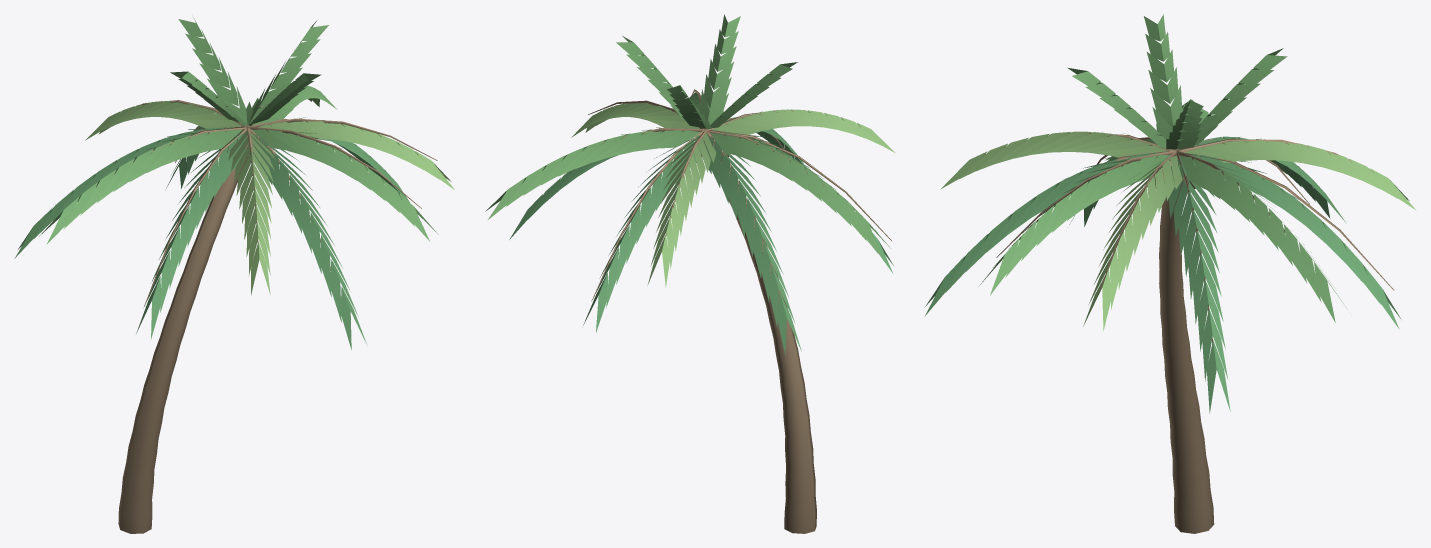
The model's file is palme_3.glb.
3 views of the same model, side by side, from view 1: azimuth 30°, elevation 25°; view 2: azimuth 150°, elevation 25°; view 3: azimuth 270°, elevation 25° (orthographic). The views are drawn at different scales.
Parts seen in each view (by area): view 1: G_palme_3; view 2: G_palme_3; view 3: G_palme_3.
Part boxes in pixels (x1,y1,x2,y2): G_palme_3: (14,17,454,533); G_palme_3: (485,14,894,533); G_palme_3: (924,14,1416,533).
Bounding box in the file's own units: 8.69 × 10.03 × 8.54.
